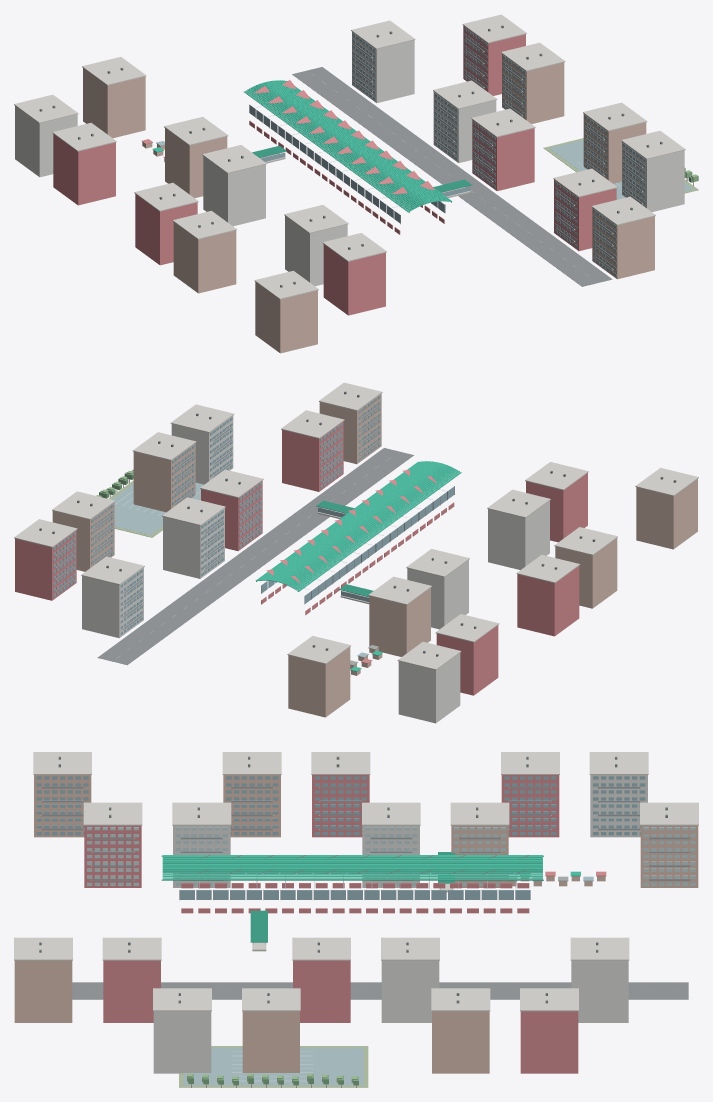
3 views of the same model, one above another, from view 1: azimuth 30°, elevation 25°; view 2: azimuth 150°, elevation 25°; view 3: azimuth 270°, elevation 25° (orthographic). The views are drawn at different scales.
Visible parts, largest first — view 1: Station 15 photo-informed architecture and surroundings; view 2: Station 15 photo-informed architecture and surroundings; view 3: Station 15 photo-informed architecture and surroundings.
Boxes of the visible parts, x1,y1,x2,y2 form: Station 15 photo-informed architecture and surroundings: (14, 14, 698, 353); Station 15 photo-informed architecture and surroundings: (14, 382, 698, 723); Station 15 photo-informed architecture and surroundings: (14, 752, 698, 1087).
Bounding box in the file's own units: 270 × 33.32 × 286.
